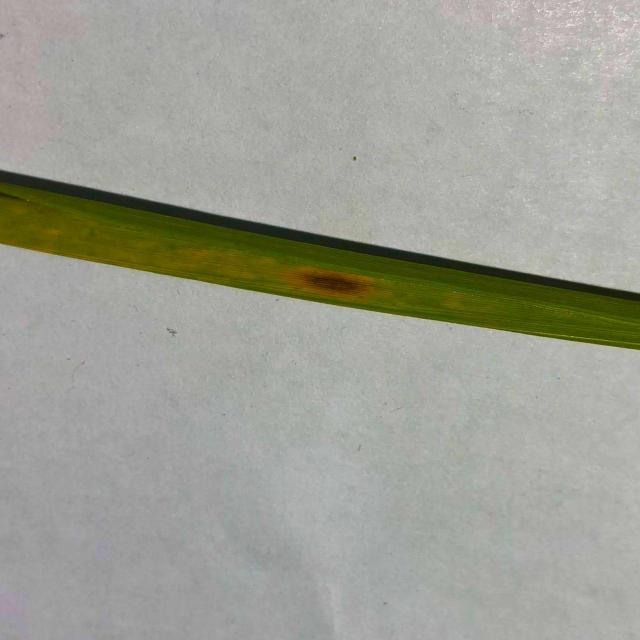Brown spot: (0, 142, 640, 389)
